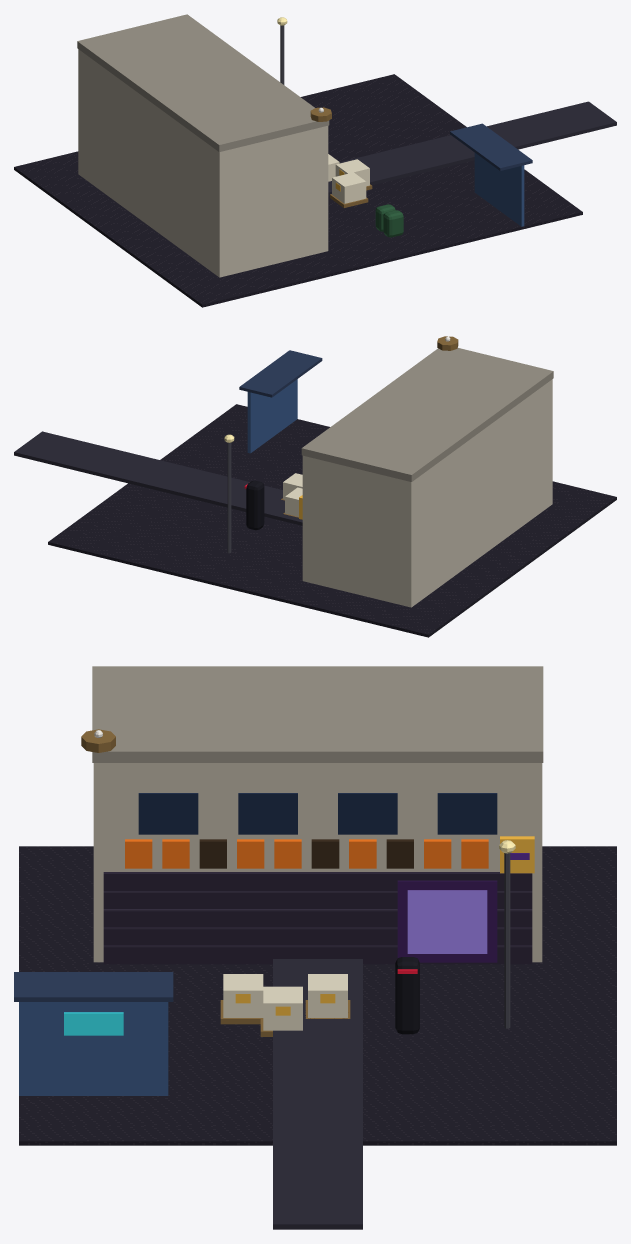
File: decor_marche2000.glb
3 renders of one model, top to bottom at view 1: azimuth 30°, elevation 25°; view 2: azimuth 150°, elevation 25°; view 3: azimuth 270°, elevation 25°, orthographic. The views are drawn at different scales.
Parts seen in each view (by area): view 1: p_box, p_box.007, p_box.008, p_box.003, p_box.004, p_box.005, p_box.033, p_rbox.001, p_box.039; view 2: p_box, p_box.007, p_box.008, p_box.003, p_box.004, p_box.005, p_rbox, p_cyl.001; view 3: p_box, p_box.008, p_box.007, p_box.013, p_box.003, p_box.004, p_box.019, p_box.005, p_box.018, p_box.009, p_box.012, p_box.010 (+21 smaller).
Part boxes in pixels (x1=…): p_box: x1=14, y1=74, x2=582, y2=307; p_box.007: x1=78, y1=49, x2=328, y2=277; p_box.008: x1=77, y1=14, x2=329, y2=152; p_box.003: x1=328, y1=101, x2=616, y2=195; p_box.004: x1=474, y1=153, x2=524, y2=226; p_box.005: x1=450, y1=123, x2=532, y2=170; p_box.033: x1=332, y1=172, x2=366, y2=203; p_rbox.001: x1=383, y1=210, x2=403, y2=237; p_box.039: x1=335, y1=159, x2=369, y2=186; p_box: x1=48, y1=404, x2=616, y2=637; p_box.007: x1=302, y1=379, x2=552, y2=607; p_box.008: x1=301, y1=348, x2=553, y2=481; p_box.003: x1=14, y1=431, x2=302, y2=525; p_box.004: x1=247, y1=379, x2=297, y2=453; p_box.005: x1=239, y1=350, x2=322, y2=397; p_rbox: x1=246, y1=480, x2=264, y2=530; p_cyl.001: x1=227, y1=442, x2=231, y2=553; p_box: x1=19, y1=846, x2=616, y2=1145; p_box.008: x1=92, y1=666, x2=543, y2=762; p_box.007: x1=93, y1=763, x2=542, y2=962; p_box.013: x1=103, y1=872, x2=532, y2=964; p_box.003: x1=273, y1=959, x2=362, y2=1229; p_box.004: x1=19, y1=1002, x2=168, y2=1095; p_box.019: x1=407, y1=890, x2=487, y2=953; p_box.005: x1=14, y1=972, x2=173, y2=1001; p_box.018: x1=397, y1=880, x2=497, y2=962; p_box.009: x1=138, y1=793, x2=198, y2=834; p_box.012: x1=437, y1=793, x2=497, y2=834; p_box.010: x1=238, y1=793, x2=297, y2=834.
Bounding box in the file's own units: 18.2 × 5.14 × 12.1.
Materials: 25 (1 with a texture image).
